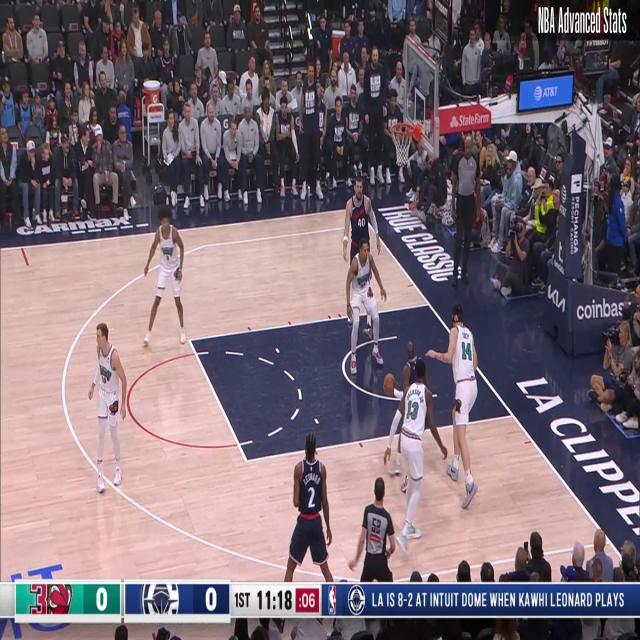ball: (381, 371, 397, 398)
judge: (350, 480, 395, 590), (452, 136, 482, 284)
player: (281, 434, 337, 635), (425, 304, 477, 512), (386, 359, 444, 545), (386, 335, 447, 475), (88, 319, 128, 499), (340, 172, 382, 332), (344, 238, 387, 378), (143, 212, 186, 348)
